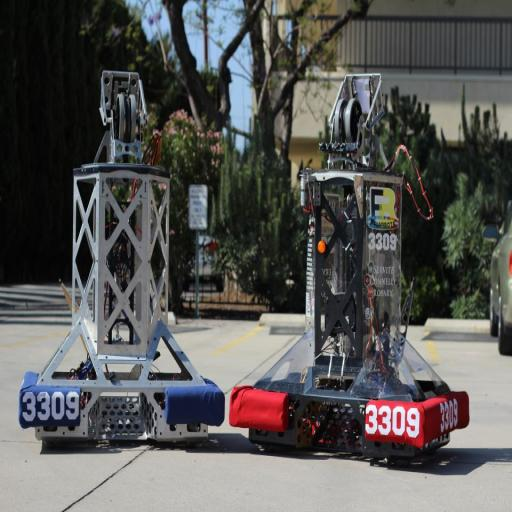robot: (229, 72, 470, 458), (16, 66, 226, 445)
